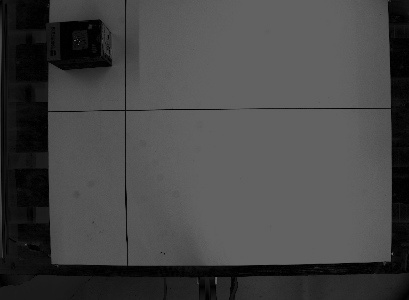b4: (42, 19, 115, 71)
